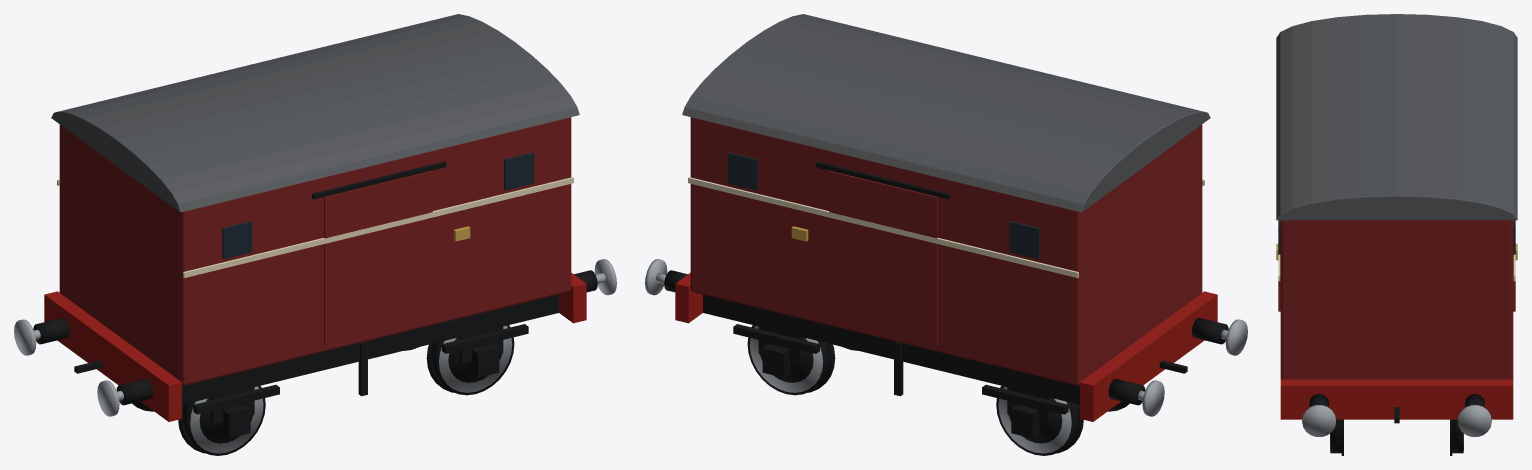
Rendered from mail_van.glb.
The picture shows the model from 3 angles, left to right: view 1: azimuth 30°, elevation 25°; view 2: azimuth 150°, elevation 25°; view 3: azimuth 270°, elevation 25°; orthographic projection. The views are drawn at different scales.
Visible parts, largest first — view 1: caixa, teto, porta_correr.001, longarina.001, viga.001, friso.001, roda_face-1.001, roda_face-1, viga, janela.002, janela.003, mola.003 (+12 smaller); view 2: caixa, teto, porta_correr, longarina, viga.001, friso, roda_face1.001, roda_face1, viga, janela, janela.001, mola.002 (+12 smaller); view 3: teto, caixa, viga, buffer_cabeca, buffer_cabeca.001, roda_roda1, roda_roda-1.
Boxes of the visible parts, x1,y1,x2,y2 form: caixa: [59, 117, 571, 385]; teto: [51, 14, 579, 212]; porta_correr.001: [324, 170, 432, 344]; longarina.001: [182, 294, 558, 404]; viga.001: [44, 291, 181, 421]; friso.001: [183, 177, 573, 277]; roda_face-1.001: [190, 386, 263, 453]; roda_face-1: [439, 326, 512, 392]; viga: [559, 273, 586, 323]; janela.002: [222, 221, 252, 259]; janela.003: [504, 152, 534, 190]; mola.003: [193, 384, 279, 414]; caixa: [690, 117, 1202, 385]; teto: [682, 14, 1210, 212]; porta_correr: [829, 170, 937, 344]; longarina: [703, 294, 1079, 404]; viga.001: [1080, 291, 1217, 421]; friso: [688, 177, 1078, 277]; roda_face1.001: [998, 386, 1071, 453]; roda_face1: [749, 326, 822, 392]; viga: [675, 273, 702, 323]; janela: [1009, 221, 1039, 259]; janela.001: [727, 152, 757, 190]; mola.002: [982, 384, 1068, 414]; teto: [1276, 14, 1517, 220]; caixa: [1280, 220, 1513, 379]; viga: [1280, 379, 1513, 419]; buffer_cabeca: [1458, 405, 1491, 436]; buffer_cabeca.001: [1302, 405, 1335, 436]; roda_roda1: [1452, 419, 1463, 453]; roda_roda-1: [1330, 419, 1341, 453].
Bounding box in the file's own units: 6.05 × 3.58 × 2.7.
